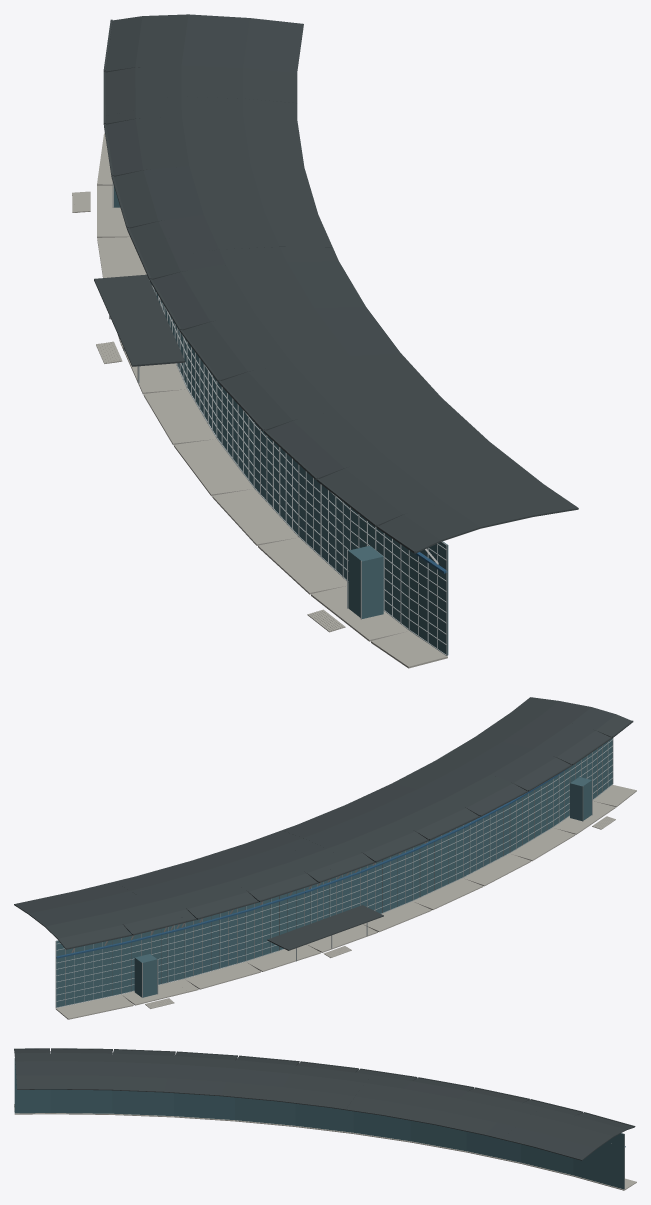
Rendered from BusanStationRestored.fbx.
3 views of the same model, one above another, from view 1: azimuth 30°, elevation 25°; view 2: azimuth 150°, elevation 25°; view 3: azimuth 270°, elevation 25° (orthographic). The views are drawn at different scales.
Parts seen in each view (by area): view 1: Broad shallow roof INFERRED_DEPTH.001, Broad shallow roof INFERRED_DEPTH.002, Broad shallow roof INFERRED_DEPTH.004, Broad shallow roof INFERRED_DEPTH.003, Broad shallow roof INFERRED_DEPTH.014, Broad shallow roof INFERRED_DEPTH.010, Broad shallow roof INFERRED_DEPTH.005, Broad shallow roof INFERRED_DEPTH.009, Broad shallow roof INFERRED_DEPTH.013, Broad shallow roof INFERRED_DEPTH, Broad central entrance canopy, Broad shallow roof INFERRED_DEPTH.007 (+18 smaller); view 2: Broad shallow roof INFERRED_DEPTH.014, Broad shallow roof INFERRED_DEPTH.004, Broad shallow roof INFERRED_DEPTH.002, Broad shallow roof INFERRED_DEPTH.003, Broad shallow roof INFERRED_DEPTH.001, Curtain wall.014, Broad shallow roof INFERRED_DEPTH.009, Broad shallow roof INFERRED_DEPTH.010, Broad shallow roof INFERRED_DEPTH.005, Curtain wall.010, Curtain wall.009, Curtain wall.004 (+30 smaller); view 3: Broad shallow roof INFERRED_DEPTH.014, Broad shallow roof INFERRED_DEPTH.001, Broad shallow roof INFERRED_DEPTH.002, Broad shallow roof INFERRED_DEPTH.003, Broad shallow roof INFERRED_DEPTH.004, Broad shallow roof INFERRED_DEPTH.005, Broad shallow roof INFERRED_DEPTH.010, Broad shallow roof INFERRED_DEPTH.009, Curtain wall.014, Broad shallow roof INFERRED_DEPTH.013, Curtain wall.001, Curtain wall.002 (+17 smaller).
Part boxes in pixels (x1,y1,x2,y2): Broad shallow roof INFERRED_DEPTH.001: (319, 441, 542, 526); Broad shallow roof INFERRED_DEPTH.002: (267, 398, 488, 478); Broad shallow roof INFERRED_DEPTH.004: (183, 307, 400, 380); Broad shallow roof INFERRED_DEPTH.003: (221, 353, 441, 430); Broad shallow roof INFERRED_DEPTH.014: (105, 14, 303, 72); Broad shallow roof INFERRED_DEPTH.010: (106, 115, 304, 176); Broad shallow roof INFERRED_DEPTH.005: (152, 261, 365, 330); Broad shallow roof INFERRED_DEPTH.009: (114, 165, 318, 228); Broad shallow roof INFERRED_DEPTH.013: (105, 64, 297, 104); Broad shallow roof INFERRED_DEPTH: (379, 484, 578, 553); Broad central entrance canopy: (94, 274, 185, 366); Broad shallow roof INFERRED_DEPTH.007: (137, 229, 332, 262); Broad shallow roof INFERRED_DEPTH.014: (14, 891, 130, 948); Broad shallow roof INFERRED_DEPTH.004: (346, 783, 478, 840); Broad shallow roof INFERRED_DEPTH.002: (435, 737, 570, 791); Broad shallow roof INFERRED_DEPTH.003: (392, 760, 526, 816); Broad shallow roof INFERRED_DEPTH.001: (475, 712, 610, 764); Curtain wall.014: (56, 938, 121, 1007); Broad shallow roof INFERRED_DEPTH.009: (192, 843, 316, 902); Broad shallow roof INFERRED_DEPTH.010: (135, 860, 257, 919); Broad shallow roof INFERRED_DEPTH.005: (297, 805, 427, 862); Curtain wall.010: (185, 906, 245, 977); Curtain wall.009: (246, 888, 304, 960); Curtain wall.004: (413, 825, 462, 899); Broad shallow roof INFERRED_DEPTH.014: (533, 1113, 634, 1160); Broad shallow roof INFERRED_DEPTH.001: (50, 1049, 112, 1090); Broad shallow roof INFERRED_DEPTH.002: (107, 1050, 175, 1092); Broad shallow roof INFERRED_DEPTH.003: (164, 1052, 237, 1096); Broad shallow roof INFERRED_DEPTH.004: (220, 1056, 299, 1101); Broad shallow roof INFERRED_DEPTH.005: (276, 1062, 358, 1107); Broad shallow roof INFERRED_DEPTH.010: (434, 1088, 529, 1135); Broad shallow roof INFERRED_DEPTH.009: (383, 1078, 473, 1124); Curtain wall.014: (573, 1133, 624, 1189); Broad shallow roof INFERRED_DEPTH.013: (502, 1104, 583, 1146); Curtain wall.001: (50, 1089, 112, 1113); Curtain wall.002: (112, 1090, 173, 1115).
Bounding box in the file's own units: 7281 × 1755 × 16176.
